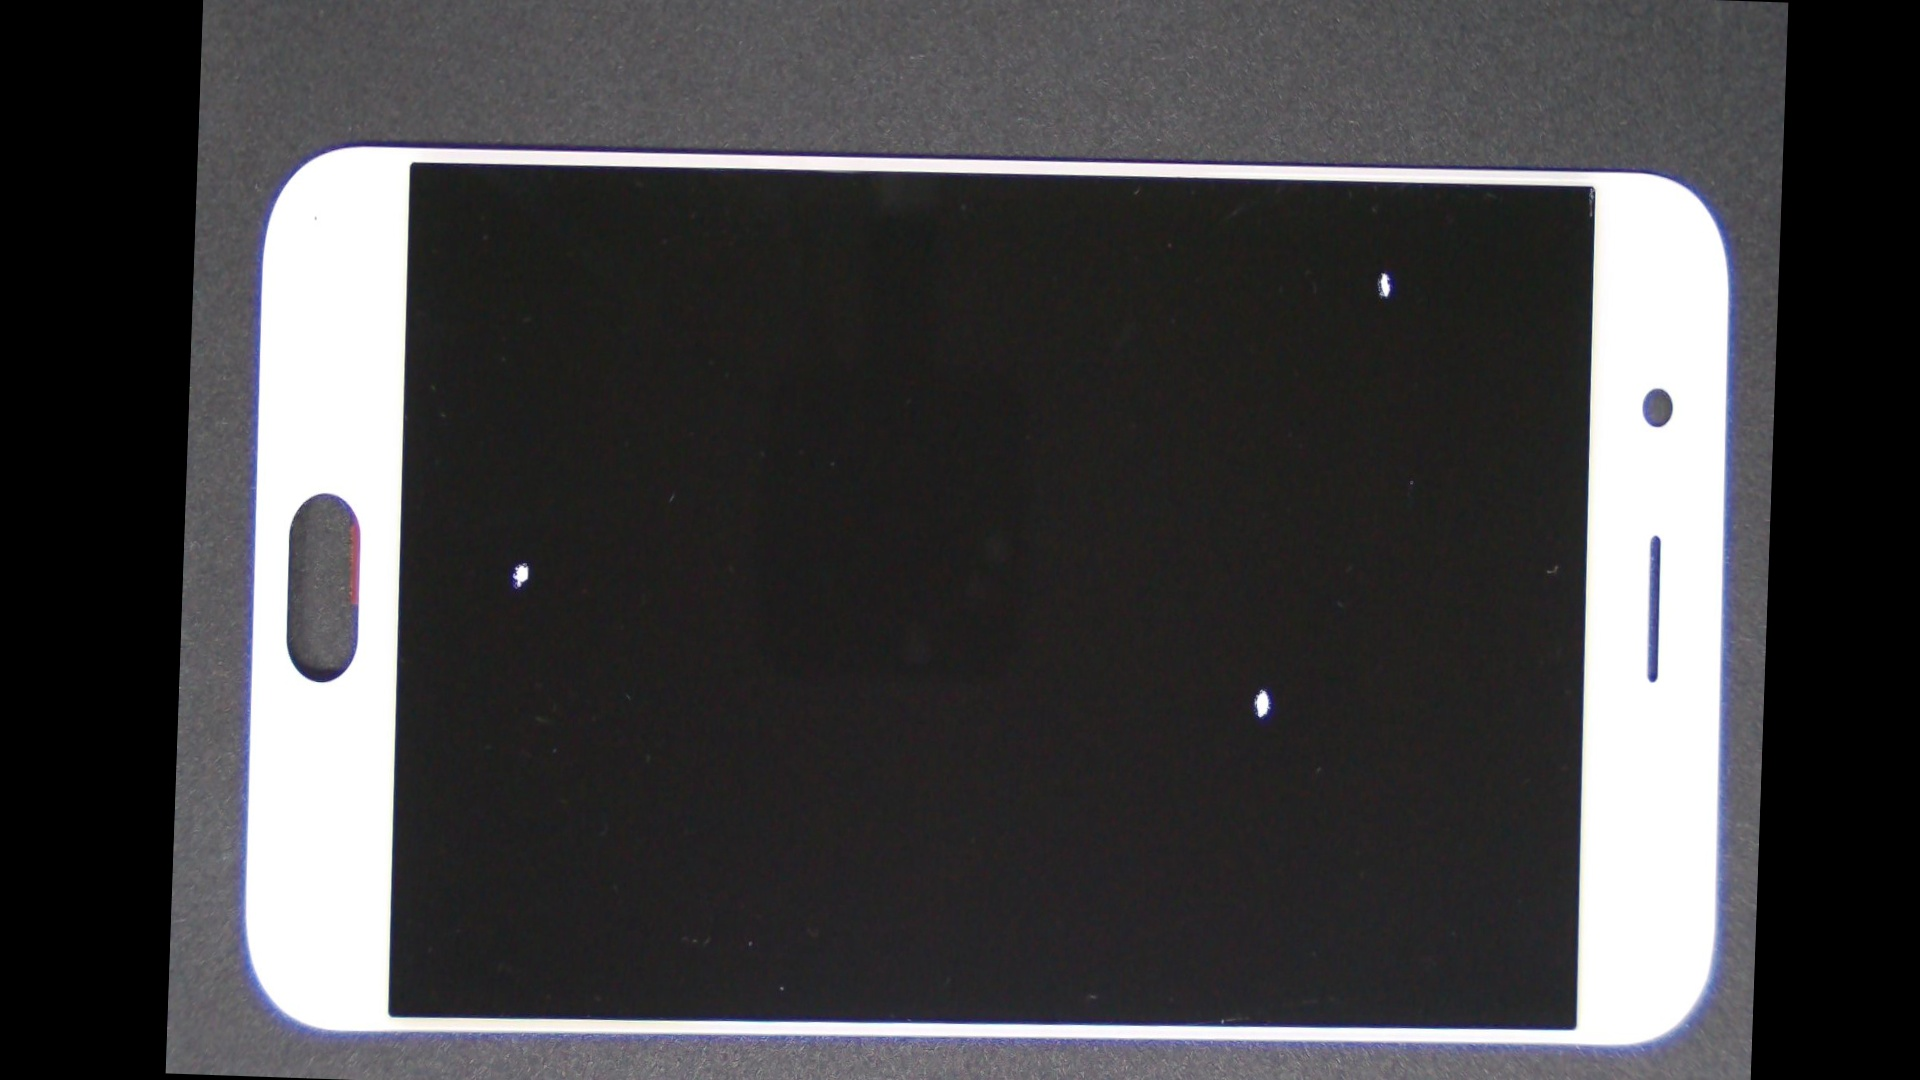oil: (711, 316, 1776, 1056), (785, 108, 1783, 427), (343, 253, 702, 868)
